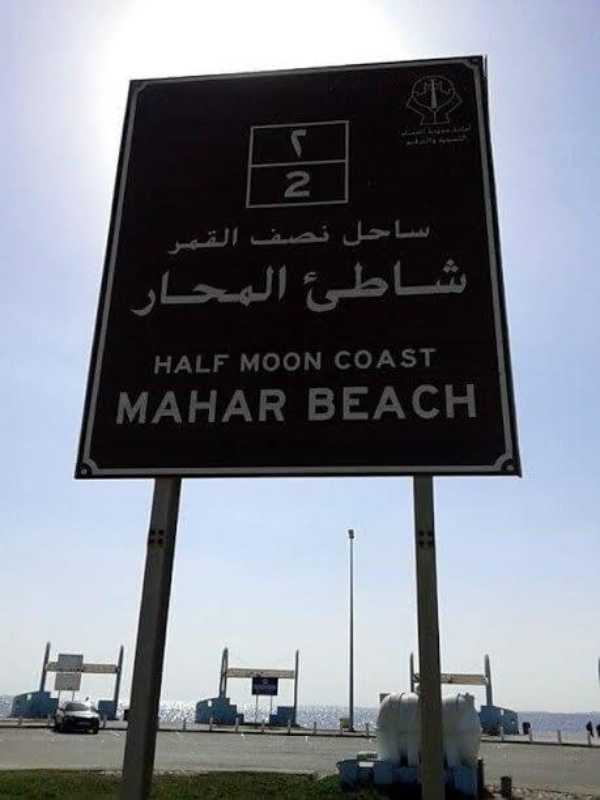text: (305, 257, 320, 314), (321, 257, 336, 314), (337, 257, 352, 314), (353, 257, 368, 314), (369, 257, 384, 314), (385, 257, 400, 314), (401, 257, 416, 314), (417, 257, 432, 314), (433, 257, 448, 314), (449, 257, 464, 314), (273, 265, 289, 317), (145, 265, 160, 317), (161, 265, 176, 317), (177, 265, 192, 317), (193, 265, 208, 317), (209, 265, 224, 317), (225, 265, 240, 317), (241, 265, 256, 317), (257, 265, 272, 317), (131, 265, 144, 317), (321, 384, 336, 423), (337, 384, 352, 423), (353, 384, 368, 423), (369, 384, 384, 423), (385, 384, 400, 423), (401, 384, 416, 423), (417, 384, 432, 423), (433, 384, 448, 423), (449, 384, 464, 423), (306, 384, 320, 423), (465, 384, 479, 423), (129, 389, 144, 425), (145, 389, 160, 425), (161, 389, 176, 425), (177, 389, 192, 425), (193, 389, 208, 425), (209, 389, 224, 425), (225, 389, 240, 425), (241, 389, 256, 425), (257, 389, 272, 425), (273, 389, 288, 425), (353, 216, 368, 248), (369, 216, 384, 248), (385, 216, 400, 248), (401, 216, 416, 248), (289, 169, 304, 199), (417, 216, 431, 248), (116, 389, 128, 425), (177, 227, 192, 255), (193, 227, 208, 255), (209, 227, 224, 255), (291, 129, 304, 160), (337, 347, 352, 373), (353, 347, 368, 373), (369, 347, 384, 373), (385, 347, 400, 373), (401, 347, 416, 373), (417, 347, 432, 373), (401, 122, 416, 147), (417, 122, 432, 147), (433, 122, 448, 147), (449, 122, 464, 147), (225, 227, 238, 255), (257, 225, 272, 248), (273, 225, 288, 248), (289, 225, 304, 248), (305, 225, 320, 248), (161, 353, 176, 376), (177, 353, 192, 376), (193, 353, 208, 376), (209, 353, 224, 376), (465, 122, 478, 147), (342, 216, 352, 248), (241, 352, 256, 373), (257, 352, 272, 373), (273, 352, 288, 373), (289, 352, 304, 373), (305, 352, 320, 373), (321, 225, 331, 248), (305, 169, 312, 199), (169, 227, 176, 255), (153, 353, 160, 376), (225, 353, 231, 376), (465, 257, 467, 314), (433, 347, 437, 373), (305, 129, 308, 160), (285, 169, 288, 199), (253, 225, 256, 248), (334, 347, 336, 373), (321, 352, 323, 373), (399, 122, 400, 147)
